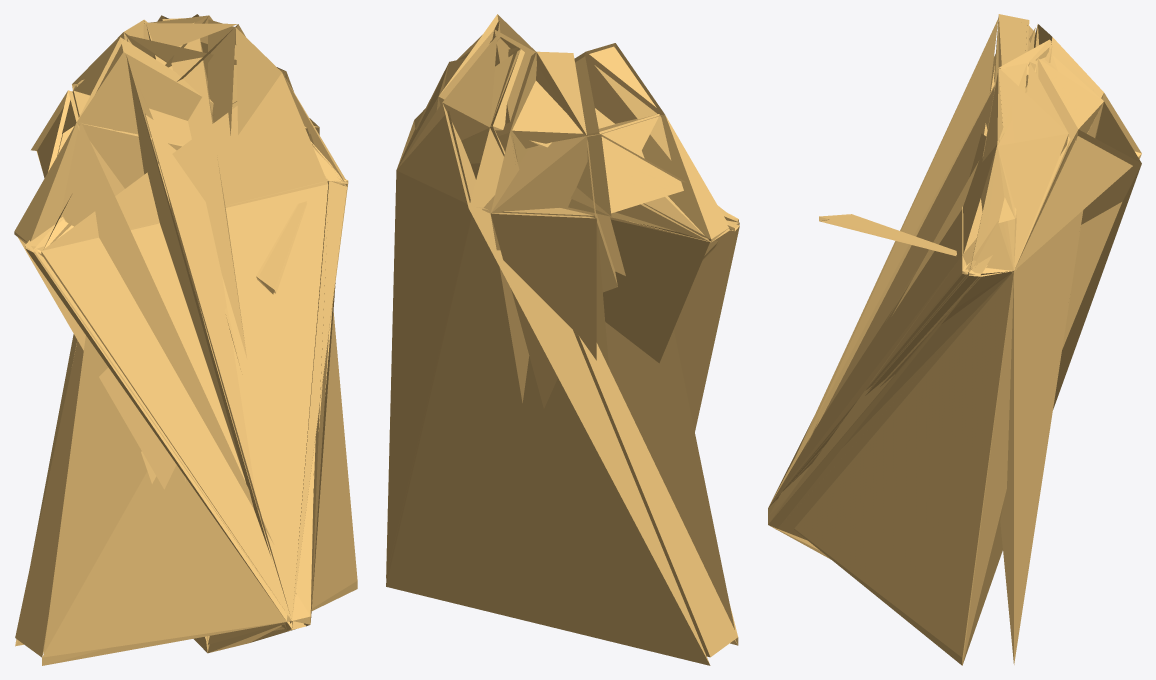
File: S.S._Dolphin_Bowsprit_6.obj
3 views of the same model, side by side, from view 1: azimuth 30°, elevation 25°; view 2: azimuth 150°, elevation 25°; view 3: azimuth 270°, elevation 25° (orthographic). The views are drawn at different scales.
Parts seen in each view (by area): view 1: S.S._Dolphin_Bowsprit_6; view 2: S.S._Dolphin_Bowsprit_6; view 3: S.S._Dolphin_Bowsprit_6.
Boxes of the visible parts, bbox=[...] form: S.S._Dolphin_Bowsprit_6: bbox=[14, 14, 357, 665]; S.S._Dolphin_Bowsprit_6: bbox=[386, 14, 739, 665]; S.S._Dolphin_Bowsprit_6: bbox=[768, 14, 1141, 665].
Bounding box in the file's own units: 4.87 × 8.31 × 5.11.
